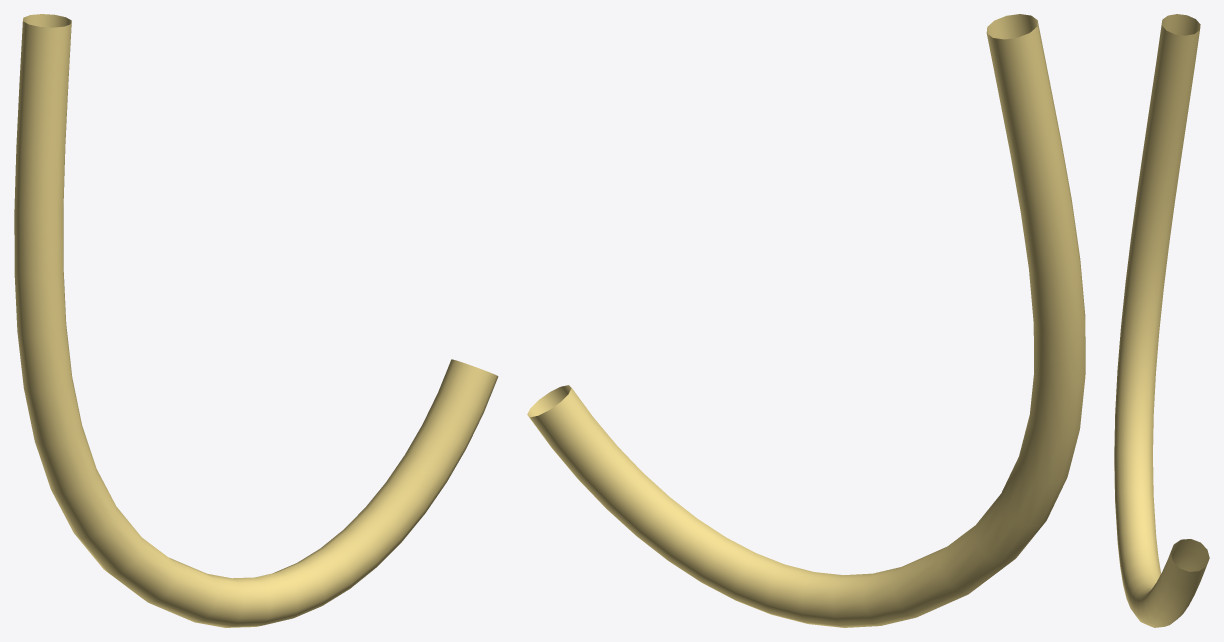
3 renders of one model, left to right at view 1: azimuth 30°, elevation 25°; view 2: azimuth 150°, elevation 25°; view 3: azimuth 270°, elevation 25°, orthographic. The views are drawn at different scales.
Parts seen in each view (by area): view 1: ZA_70dccdd4fcc2e57a; view 2: ZA_70dccdd4fcc2e57a; view 3: ZA_70dccdd4fcc2e57a.
Part boxes in pixels (left/top/right/bottom): ZA_70dccdd4fcc2e57a: left=14, top=14, right=498, bottom=627; ZA_70dccdd4fcc2e57a: left=527, top=14, right=1085, bottom=627; ZA_70dccdd4fcc2e57a: left=1114, top=14, right=1209, bottom=627.
Bounding box in the file's own units: 0.0114 × 0.014 × 0.00239.
